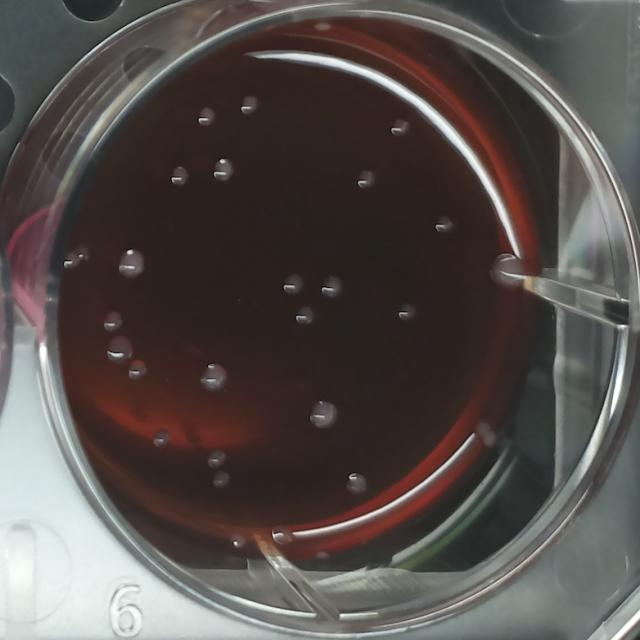Bacillus: (484, 247, 530, 300)
Pseudoalteromonas: (303, 396, 342, 438), (196, 360, 232, 400), (114, 244, 148, 284)
